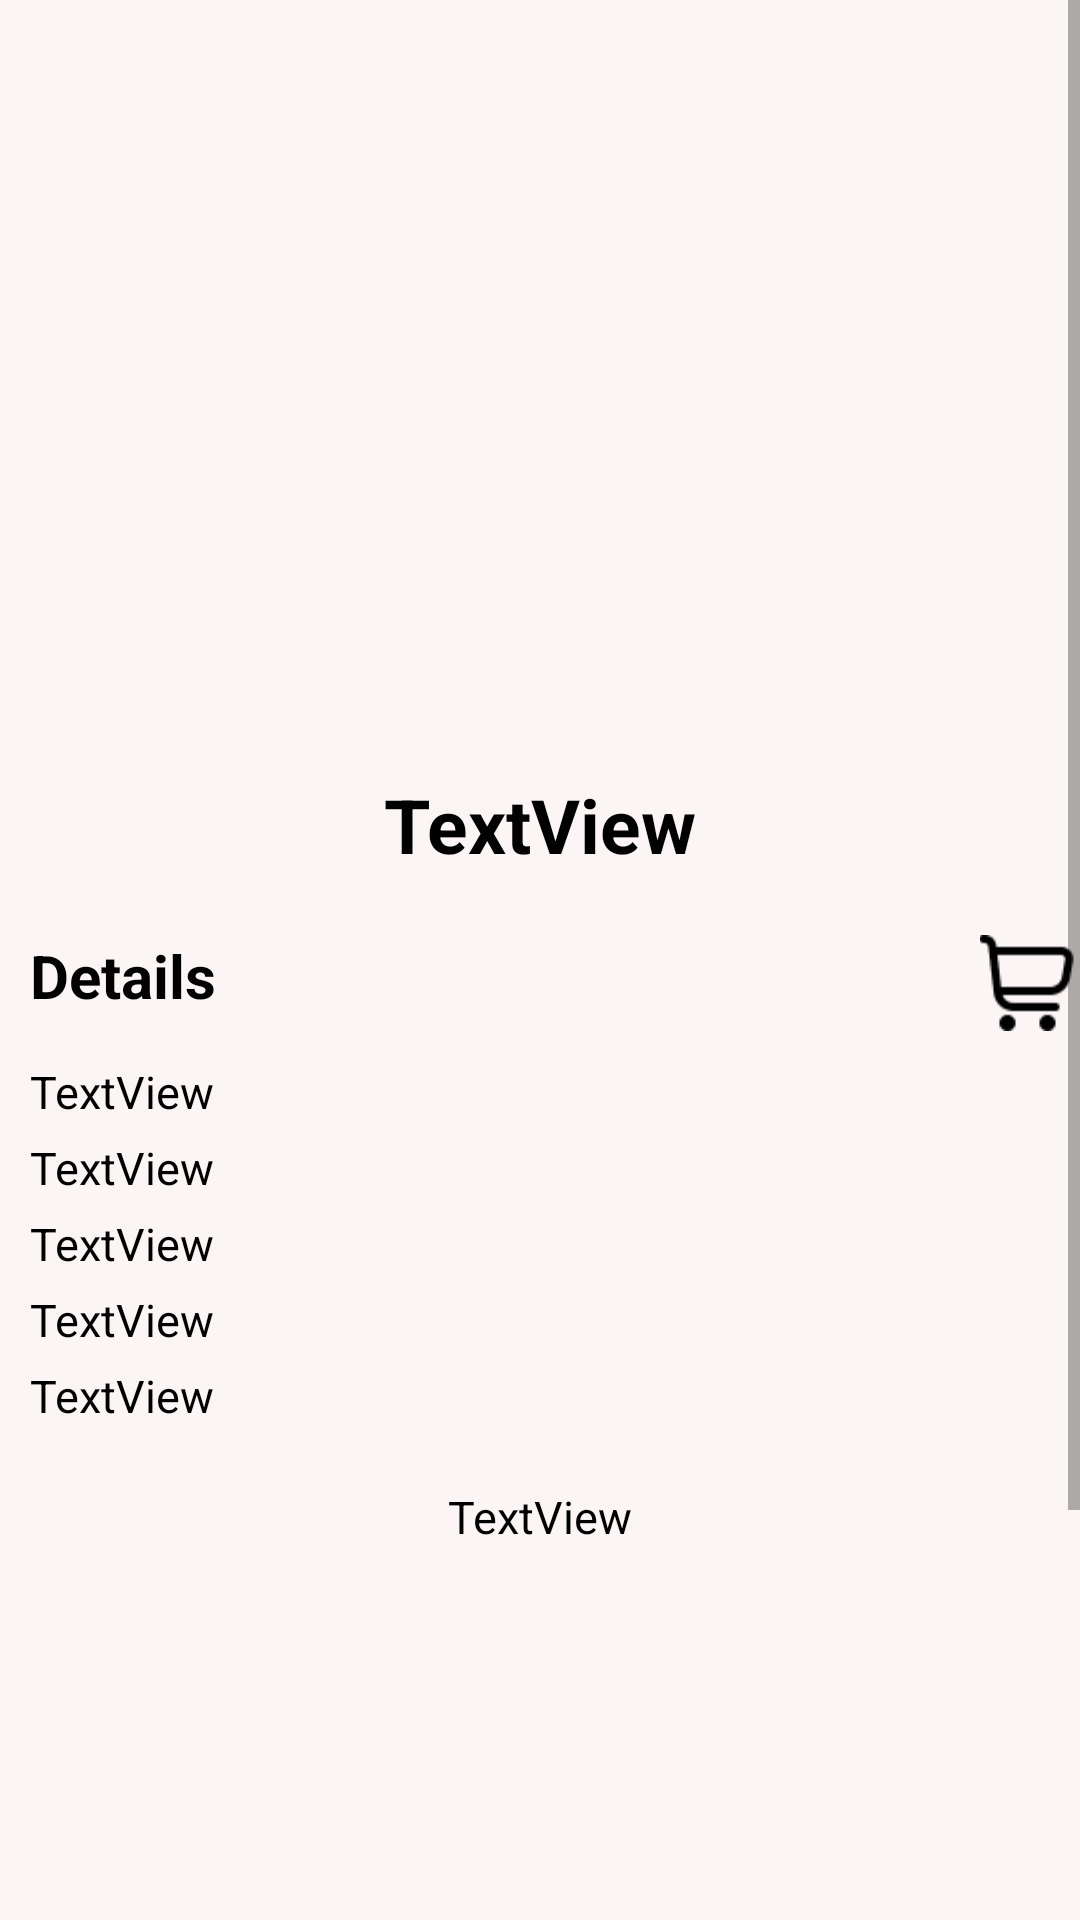

Icon bounding boxes for this 1080×1920 phone screenshot, format (x1,y1,x2,y2):
cart notfilled: (980,935,1080,1031)
